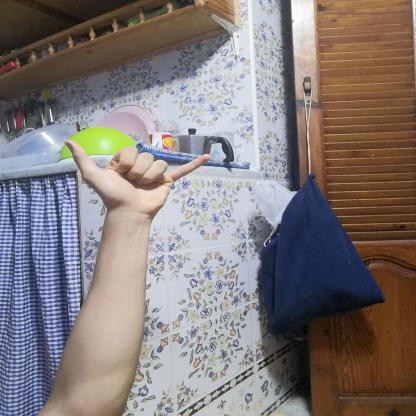YA: (53, 131, 222, 225)
